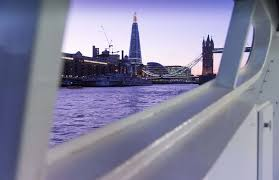boat: (60, 62, 153, 87)
